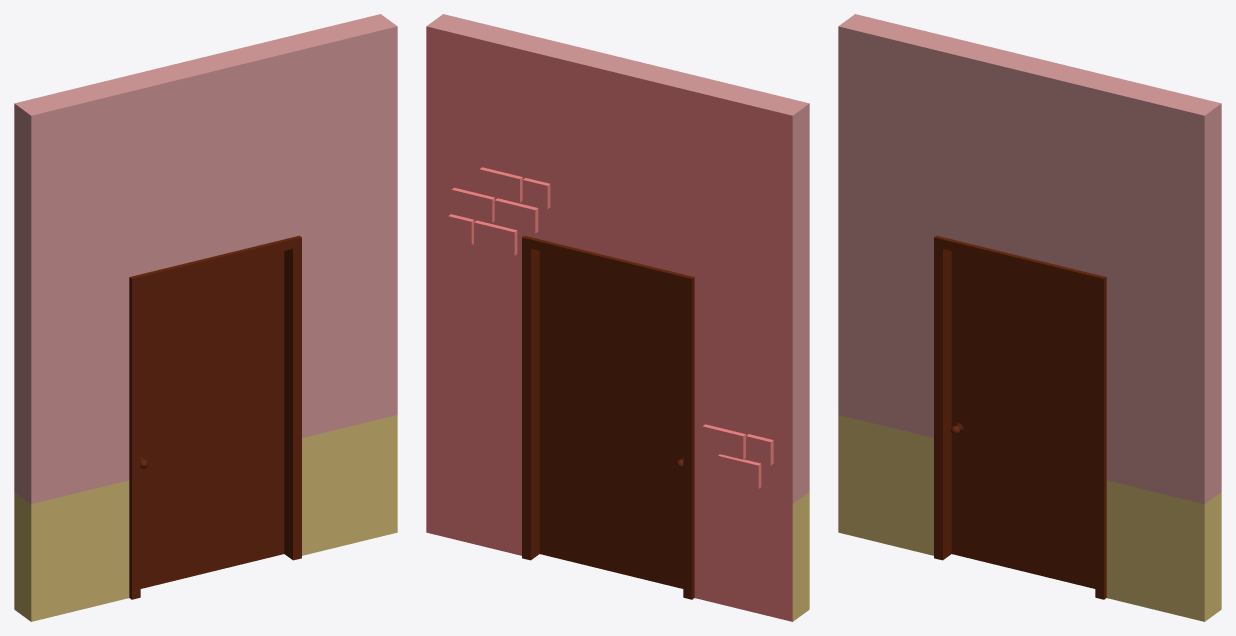
File: wall_door4.fbx
3 renders of one model, left to right at view 1: azimuth 30°, elevation 25°; view 2: azimuth 150°, elevation 25°; view 3: azimuth 330°, elevation 25°, orthographic.
Visible parts, largest first — view 1: wall_door4.001, door4; view 2: wall_door4.001, door4; view 3: wall_door4.001, door4.
Part boxes in pixels (x1,y1,x2,y2): wall_door4.001: (14, 14, 397, 621); door4: (140, 251, 284, 588); wall_door4.001: (426, 14, 809, 621); door4: (539, 251, 683, 588); wall_door4.001: (838, 14, 1221, 621); door4: (950, 251, 1095, 588).
Bounding box in the file's own units: 211 × 279 × 22.13.
